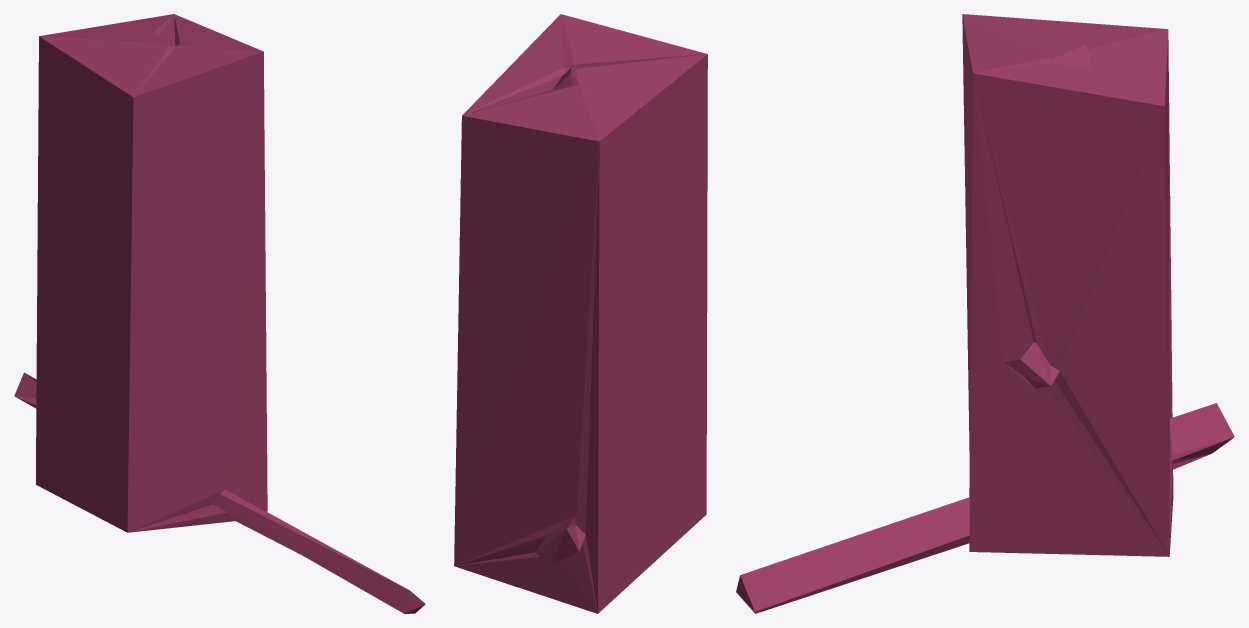
3 renders of one model, left to right at view 1: azimuth 30°, elevation 25°; view 2: azimuth 150°, elevation 25°; view 3: azimuth 270°, elevation 25°, orthographic. The views are drawn at different scales.
Parts seen in each view (by area): view 1: 754_Cube.3033; view 2: 754_Cube.3033; view 3: 754_Cube.3033.
Part boxes in pixels (x1,y1,x2,y2): 754_Cube.3033: (14,14,425,613); 754_Cube.3033: (454,14,707,613); 754_Cube.3033: (736,14,1234,613).
Bounding box in the file's own units: 5.53 × 13.46 × 11.77.
